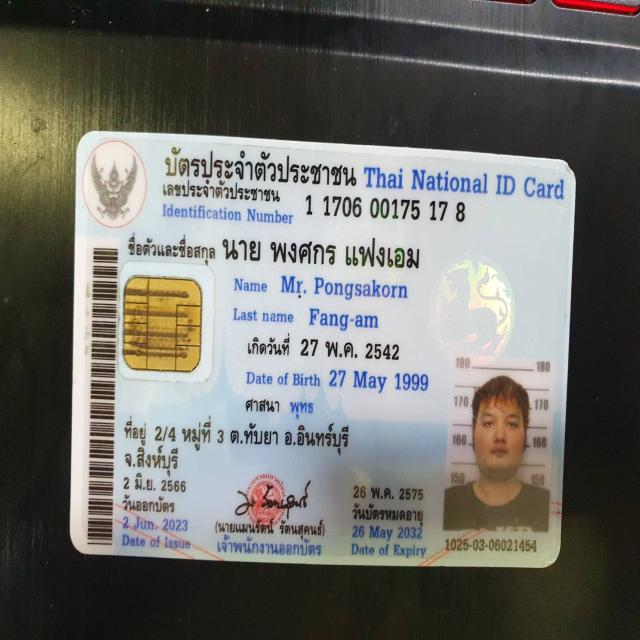Address_th: (121, 413, 367, 478)
Date_of_Birth: (323, 360, 436, 402)
Date_of_Expiry: (347, 519, 427, 545)
Date_of_Issue: (117, 515, 195, 536)
First_Name: (277, 269, 410, 305)
ID_Number: (301, 193, 468, 226)
Image: (447, 353, 552, 533)
Last_Name: (302, 306, 387, 336)
Thai_Name: (218, 223, 432, 274)
